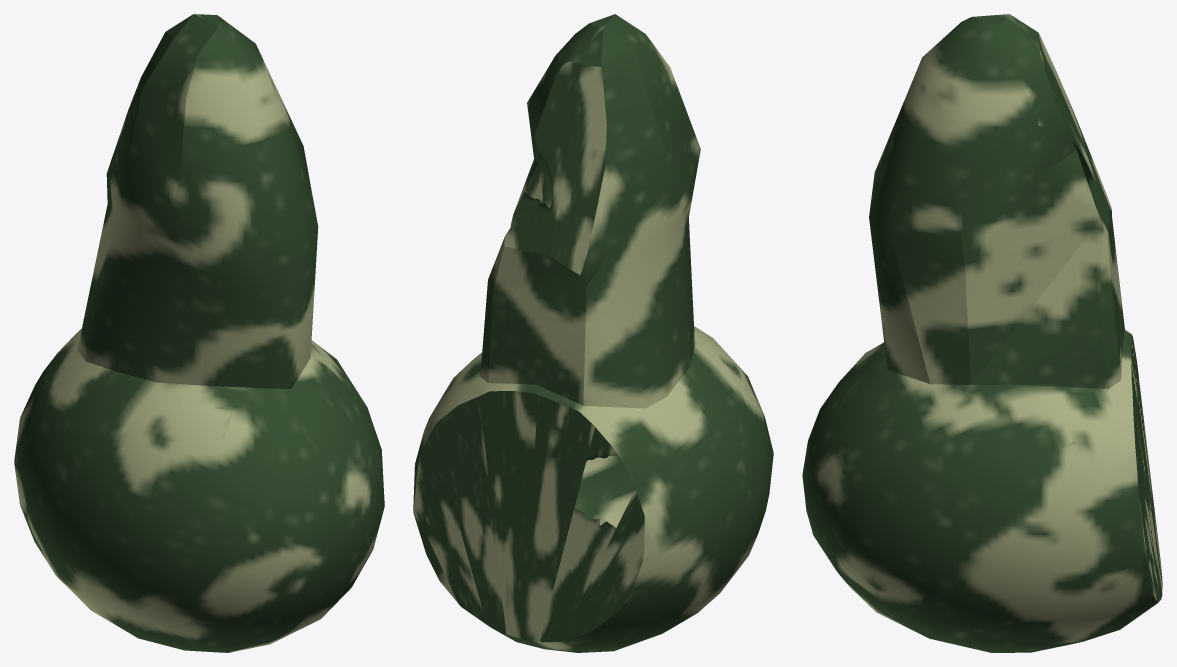
Rendered from link_leg_0_R_0.obj.
The picture shows the model from 3 angles, left to right: view 1: azimuth 30°, elevation 25°; view 2: azimuth 150°, elevation 25°; view 3: azimuth 270°, elevation 25°; orthographic projection. The views are drawn at different scales.
Parts seen in each view (by area): view 1: link_leg_0_R_0; view 2: link_leg_0_R_0; view 3: link_leg_0_R_0.
Boxes of the visible parts, x1,y1,x2,y2 form: link_leg_0_R_0: [14, 14, 384, 652]; link_leg_0_R_0: [413, 14, 773, 652]; link_leg_0_R_0: [802, 14, 1162, 652].
Size of the model in its own units: 7.33 by 14.35 by 7.58.
